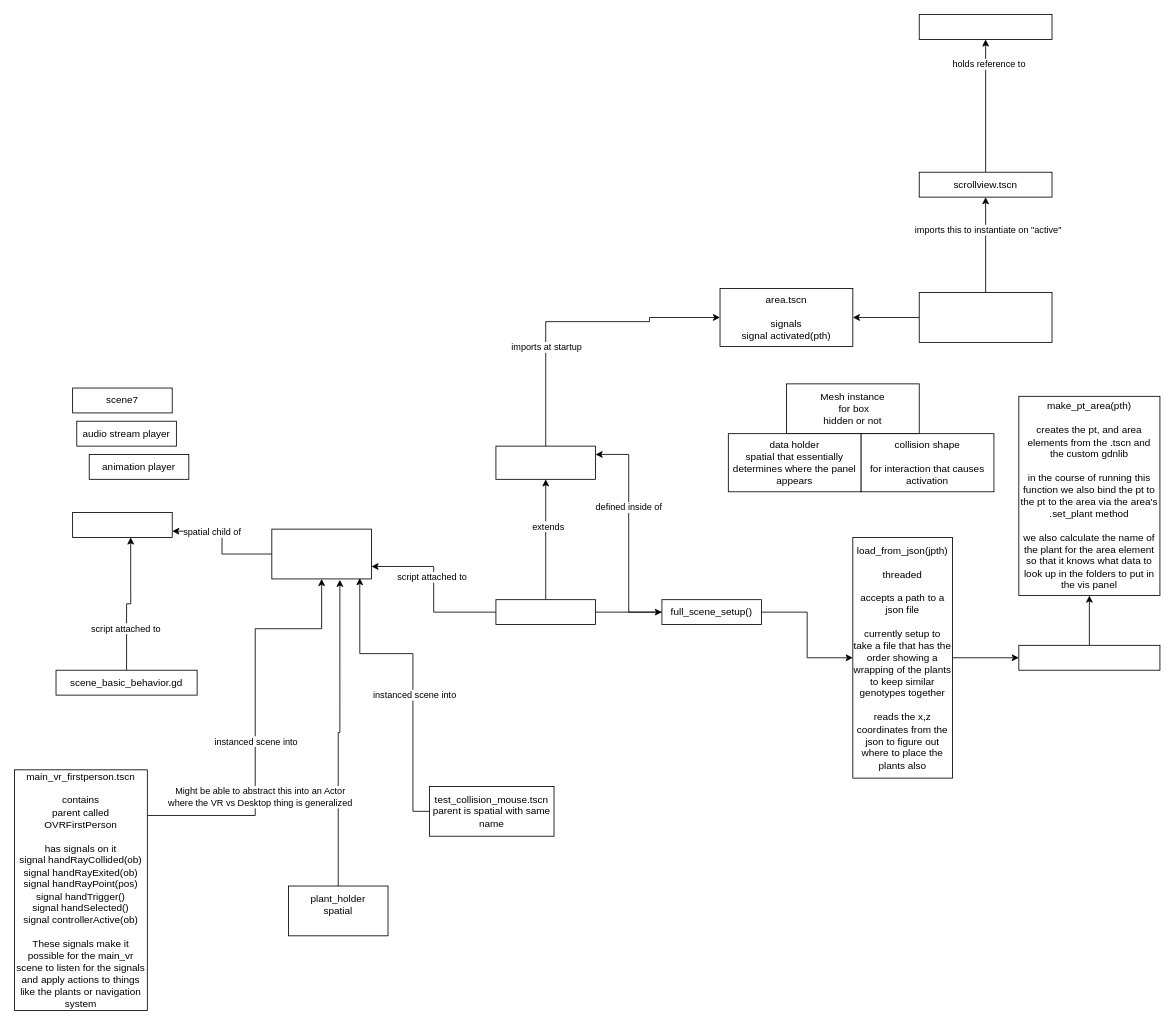
This 1174x1025 diagram has some shape labels left out. Each missing label, with the box of its shape:
area.gd: (918, 292, 1052, 342)
central script functions: (495, 445, 596, 479)
load_add_plant(pth,x=0,z=0): (1018, 644, 1160, 670)
main_vr.gd: (495, 599, 596, 625)
main_vr.tscn contains spatial manual_loading: (271, 528, 371, 579)
parent spatial node: (72, 512, 172, 537)
video_render_player.tscn: (918, 14, 1052, 39)
